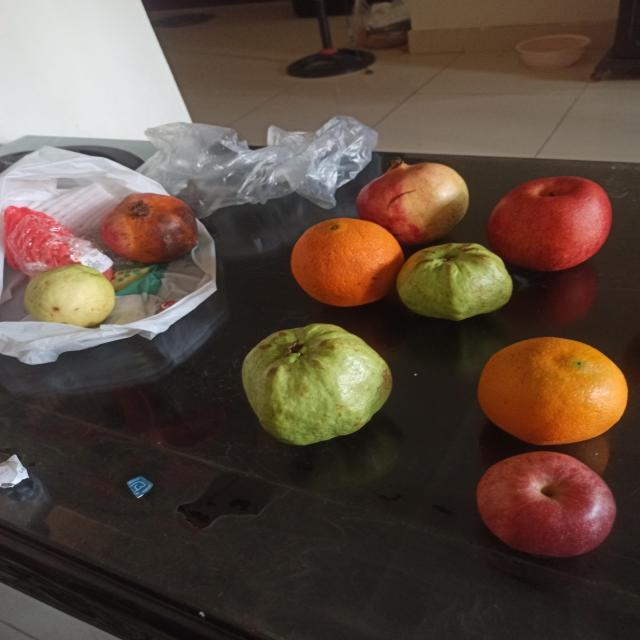apple: (476, 449, 618, 558), (486, 175, 612, 271)
